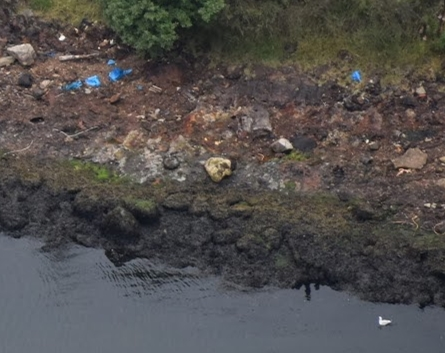scattered_barrel: (50, 54, 142, 95)
straight_bar: (57, 46, 107, 65)
white_in_green: (339, 57, 376, 91)
